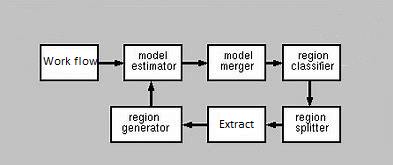arrow: (181, 120, 208, 131), (305, 79, 315, 107), (181, 59, 208, 69), (97, 59, 123, 69), (147, 81, 157, 107), (265, 58, 283, 69), (264, 120, 283, 130)
process: (108, 104, 185, 145), (205, 42, 268, 84), (205, 104, 269, 145), (279, 42, 343, 83), (122, 42, 186, 83), (38, 43, 101, 84), (280, 104, 342, 145)
text: (119, 113, 171, 134), (290, 50, 335, 73), (131, 50, 176, 72), (220, 50, 256, 75), (294, 112, 330, 135), (42, 55, 98, 68), (218, 119, 254, 129)
